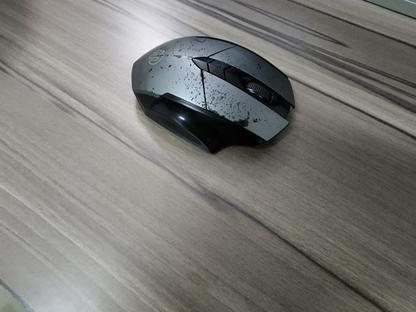mouse: (130, 34, 296, 156)
